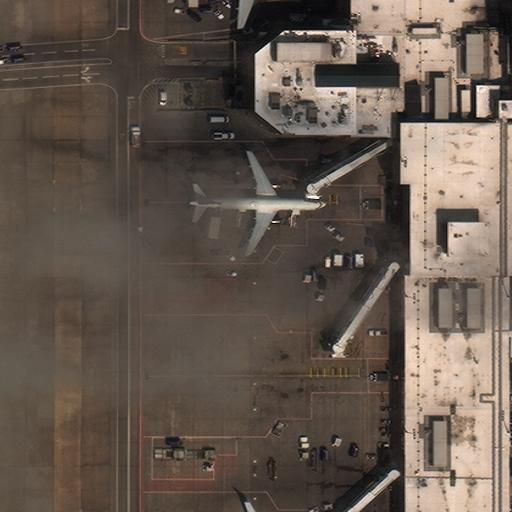Large Civil Transport: (194, 0, 278, 27)
Medium Civil Transport: (186, 151, 328, 254)
